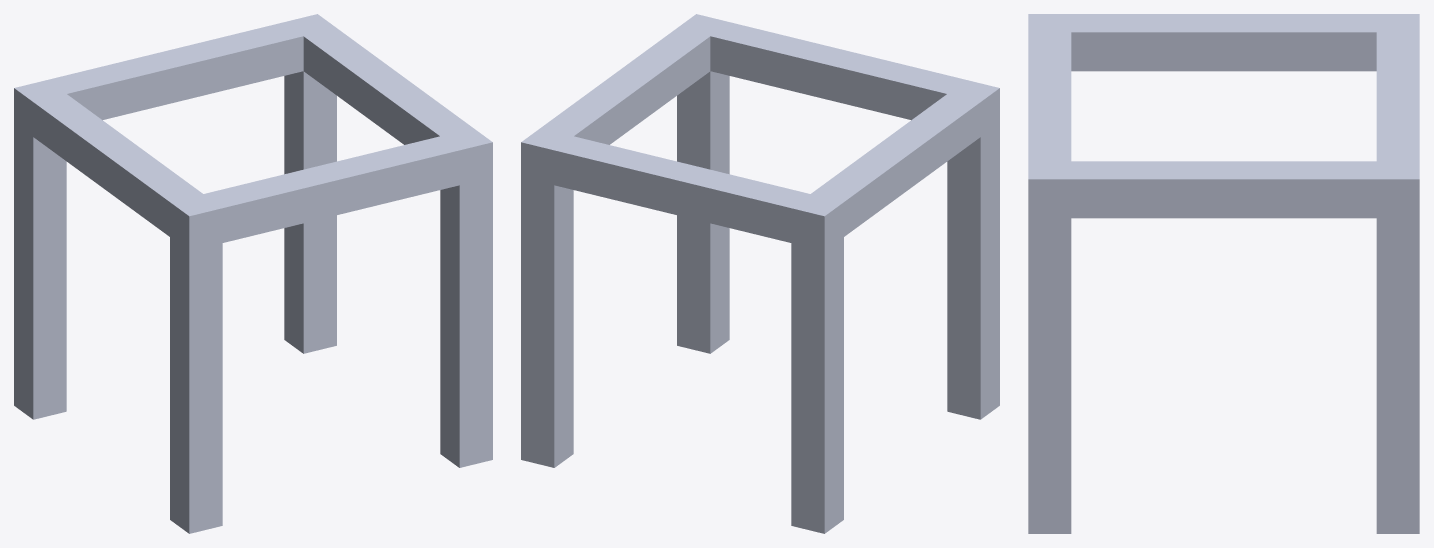
3 renders of one model, left to right at view 1: azimuth 30°, elevation 25°; view 2: azimuth 150°, elevation 25°; view 3: azimuth 270°, elevation 25°, orthographic. The views are drawn at different scales.
Visible parts, largest first — view 1: object_034; view 2: object_034; view 3: object_034.
Boxes of the visible parts, <box> form: object_034: <box>14,14,492,533</box>; object_034: <box>521,14,999,533</box>; object_034: <box>1028,14,1419,533</box>.
Size of the model in its own units: 10 by 10 by 10.
